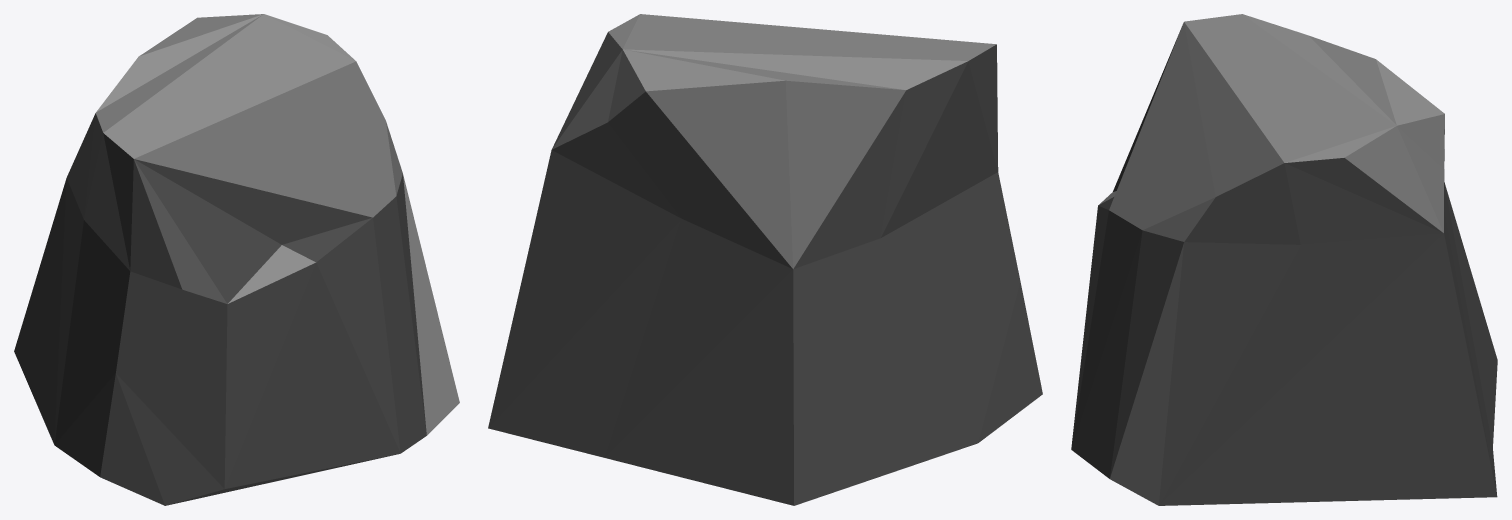
Rendered from Rock_0.fbx.
3 views of the same model, side by side, from view 1: azimuth 30°, elevation 25°; view 2: azimuth 150°, elevation 25°; view 3: azimuth 270°, elevation 25° (orthographic). The views are drawn at different scales.
Parts seen in each view (by area): view 1: Cube; view 2: Cube; view 3: Cube.
Boxes of the visible parts, x1,y1,x2,y2 form: Cube: [14, 14, 459, 505]; Cube: [488, 14, 1042, 505]; Cube: [1071, 14, 1497, 505].
Bounding box in the file's own units: 586 × 539 × 591.
